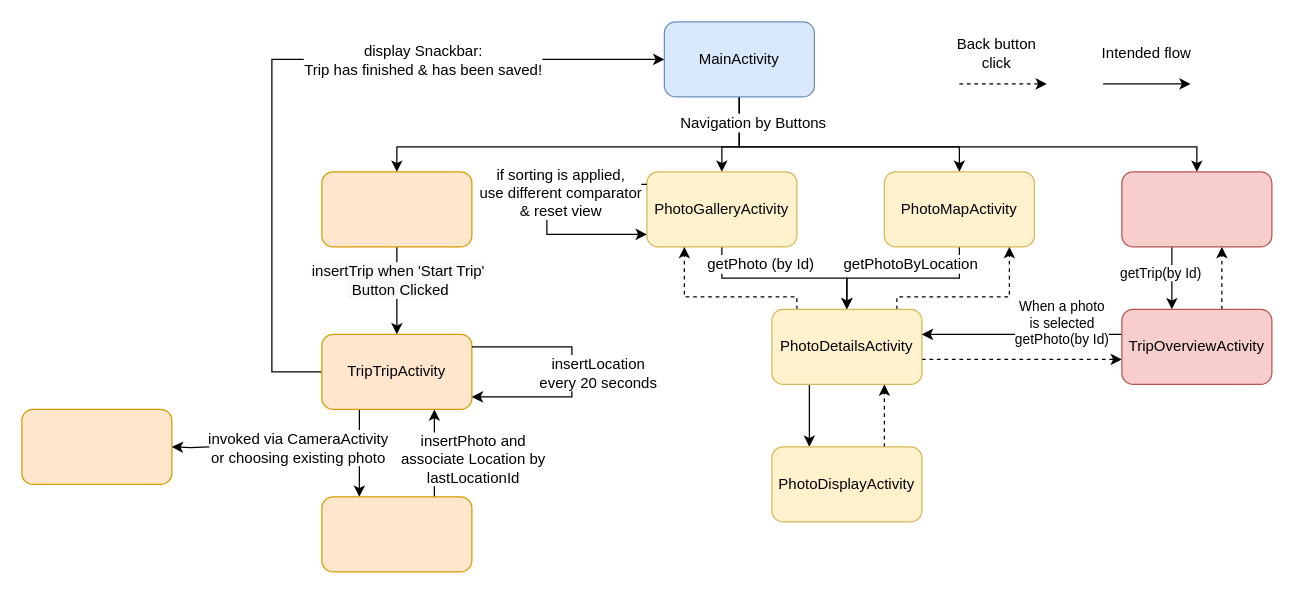
This 1294x594 diagram has some shape labels left out. The centre of each missing label's shape, as x and y in pixels:
"CameraActivity" goes at point 96,446.
"TripCreationActivity" goes at point 396,209.
"TripGalleryActivity" goes at point 1196,209.
"TripPhotoActivity" goes at point 396,534.
